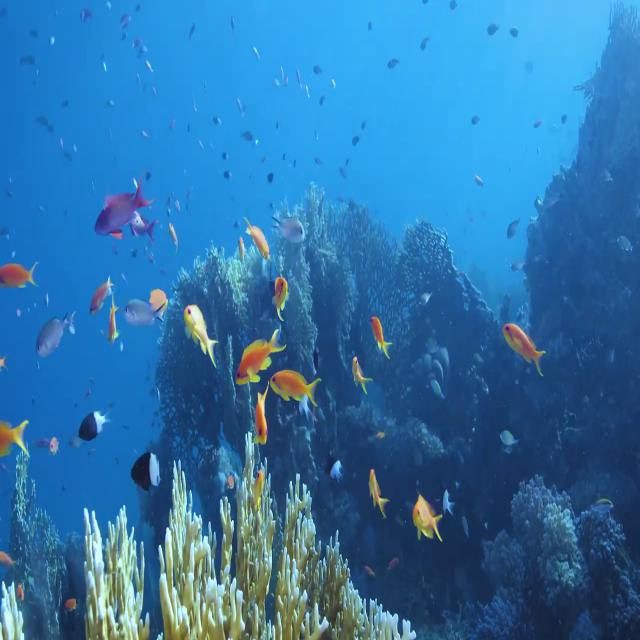fish: (91, 172, 149, 243), (233, 319, 292, 381), (502, 310, 550, 384), (264, 360, 322, 414), (406, 485, 450, 555), (181, 296, 223, 366), (123, 273, 173, 331), (34, 302, 80, 363), (0, 396, 37, 467), (365, 295, 400, 365), (122, 442, 169, 494), (0, 250, 42, 306), (78, 266, 116, 325), (271, 205, 311, 260), (74, 402, 112, 453), (364, 461, 395, 523), (252, 384, 279, 452), (245, 212, 274, 271), (264, 270, 302, 314), (494, 412, 528, 456), (346, 350, 371, 398), (106, 307, 124, 348)
